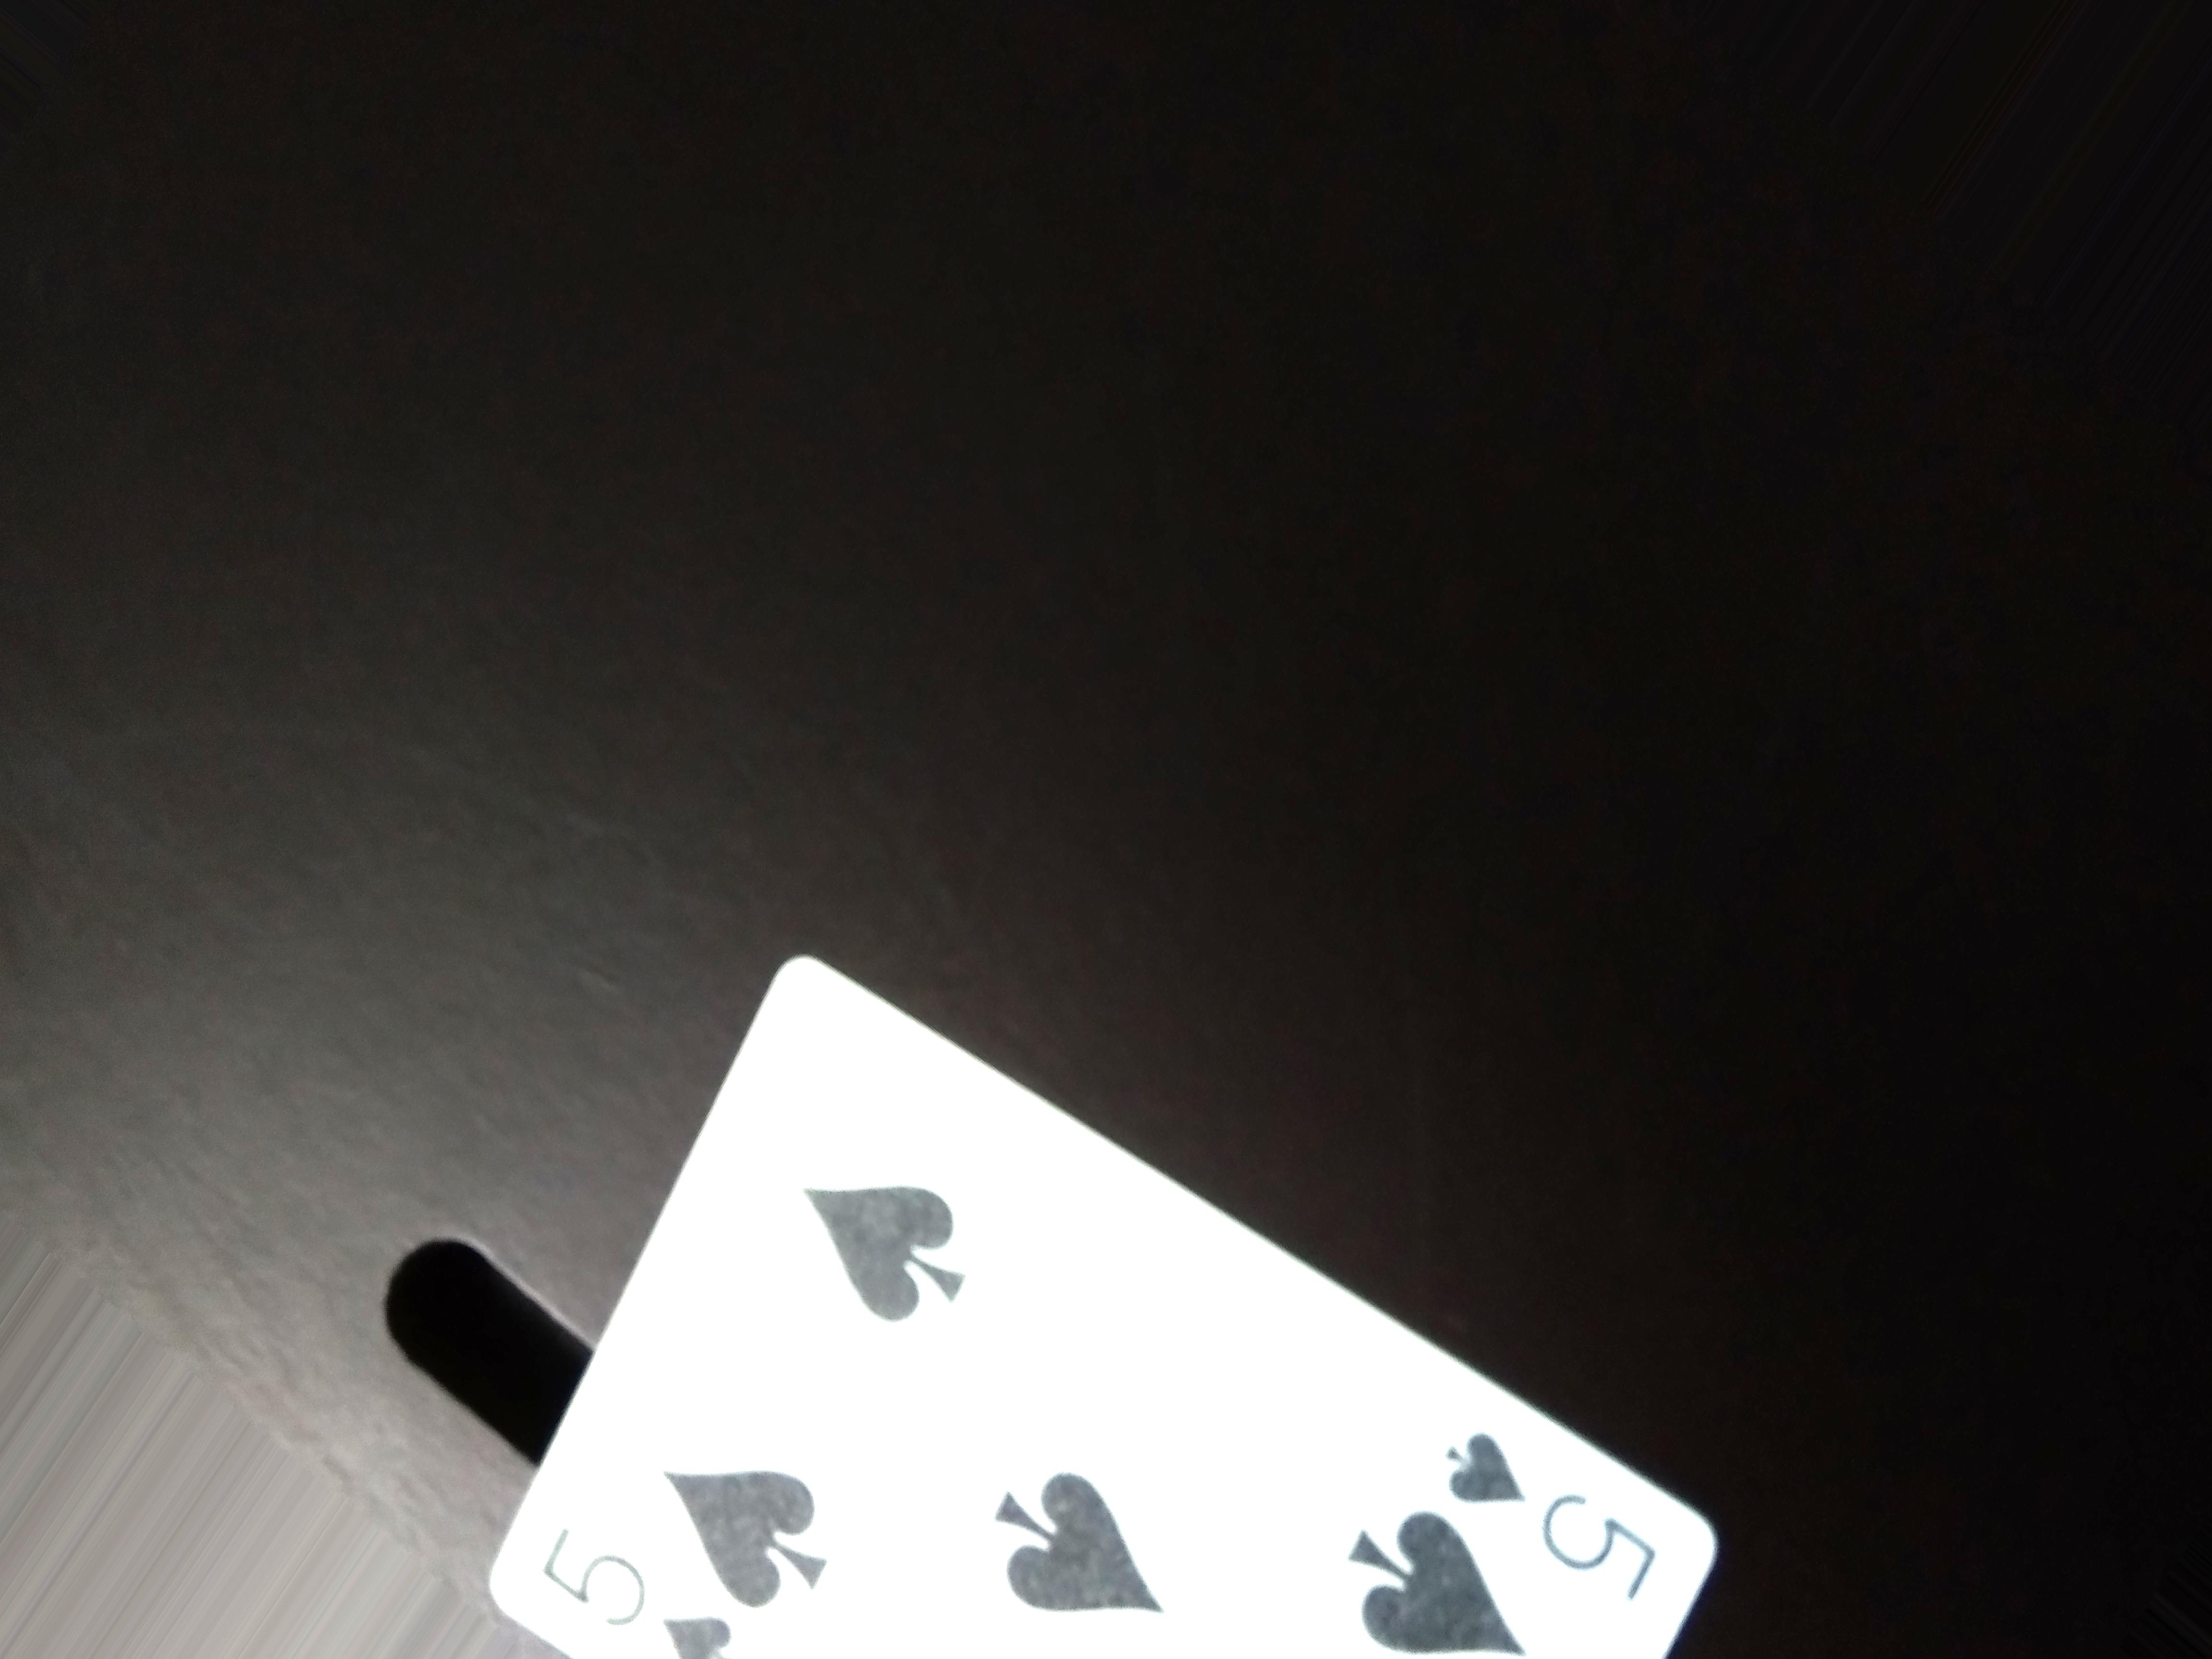5S: (1435, 1412, 1684, 1607)
